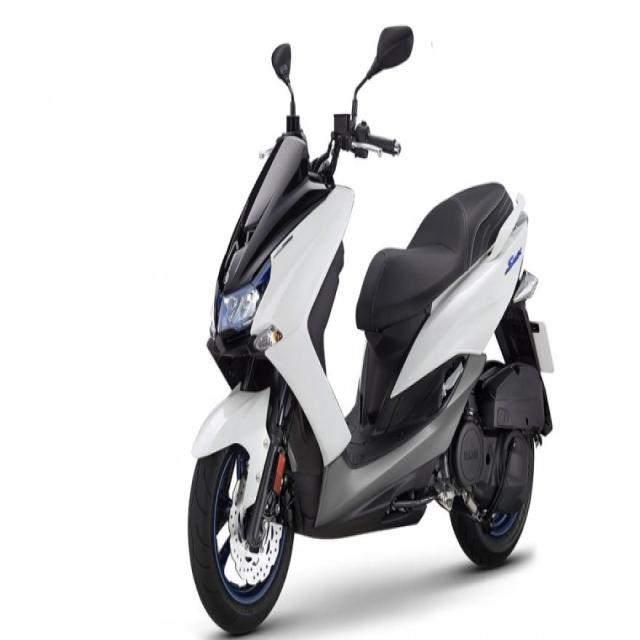Bike: (189, 27, 552, 634)
